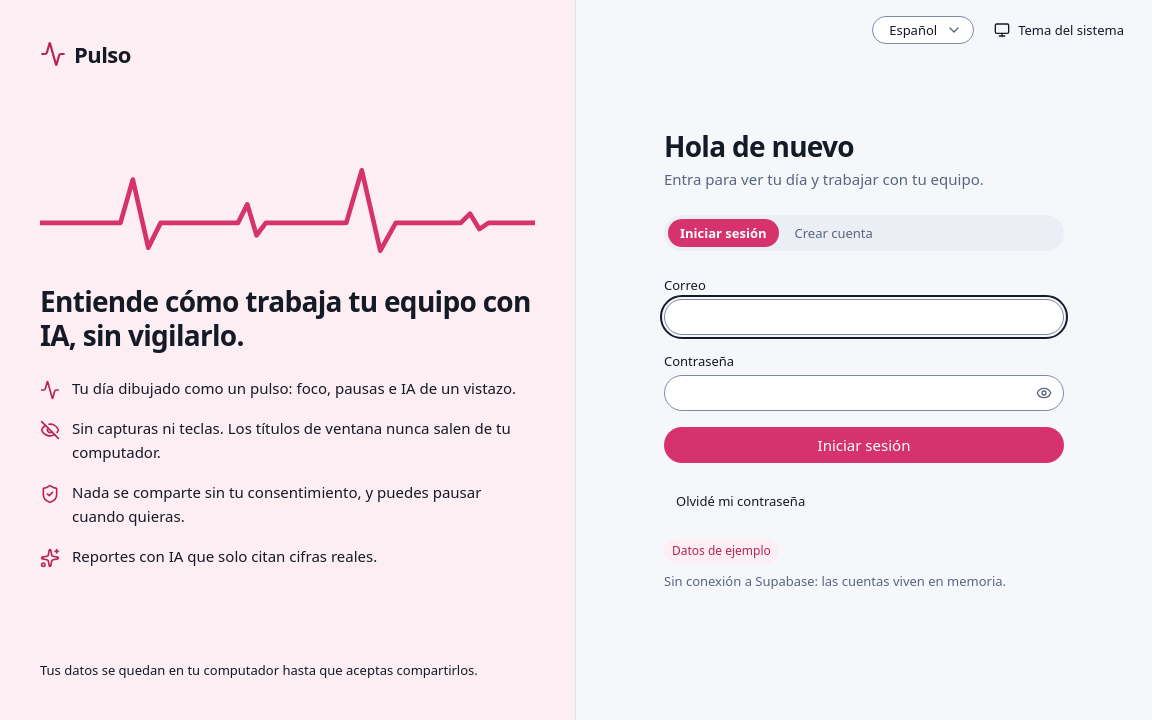
Test: Acceso (CU-01 a CU-03) › con el correo sin verificar (proyecto que exige confirmarlo), pasa a escribir el código
Type "beto@pulso.test" into the field labelled "Correo" at (864, 317), box [664,299,1064,335]
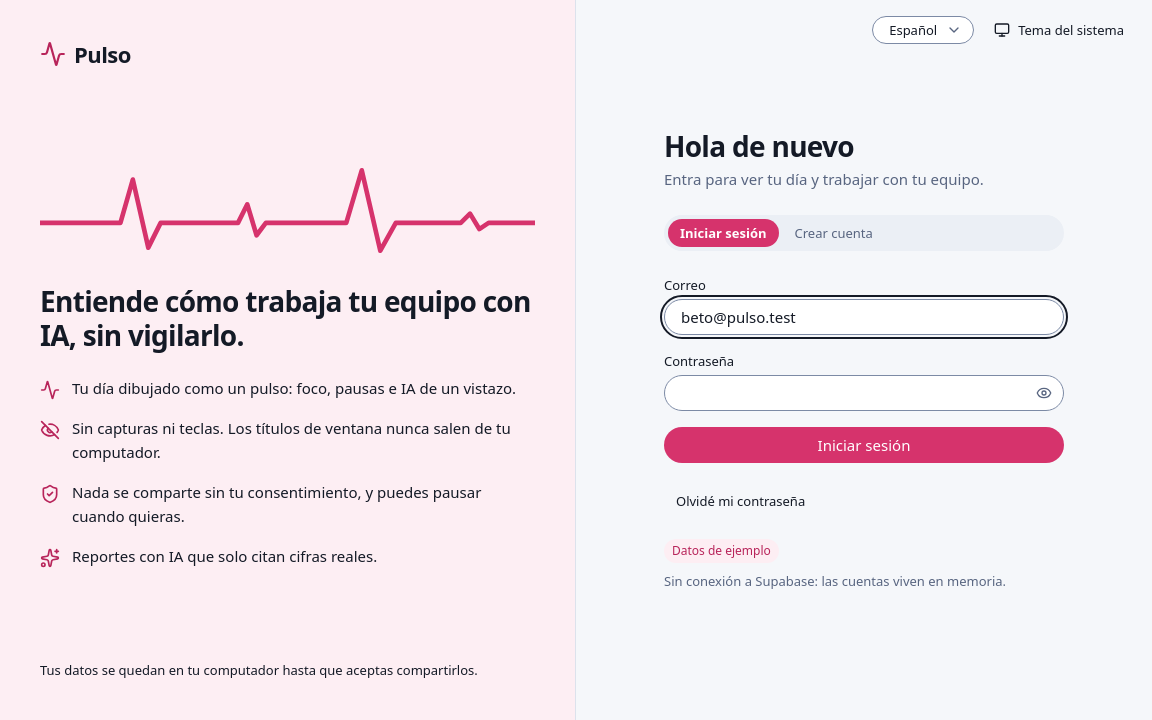
Type "secreto-123" into the password field labelled "Contraseña" at (864, 393), box [664,375,1064,411]
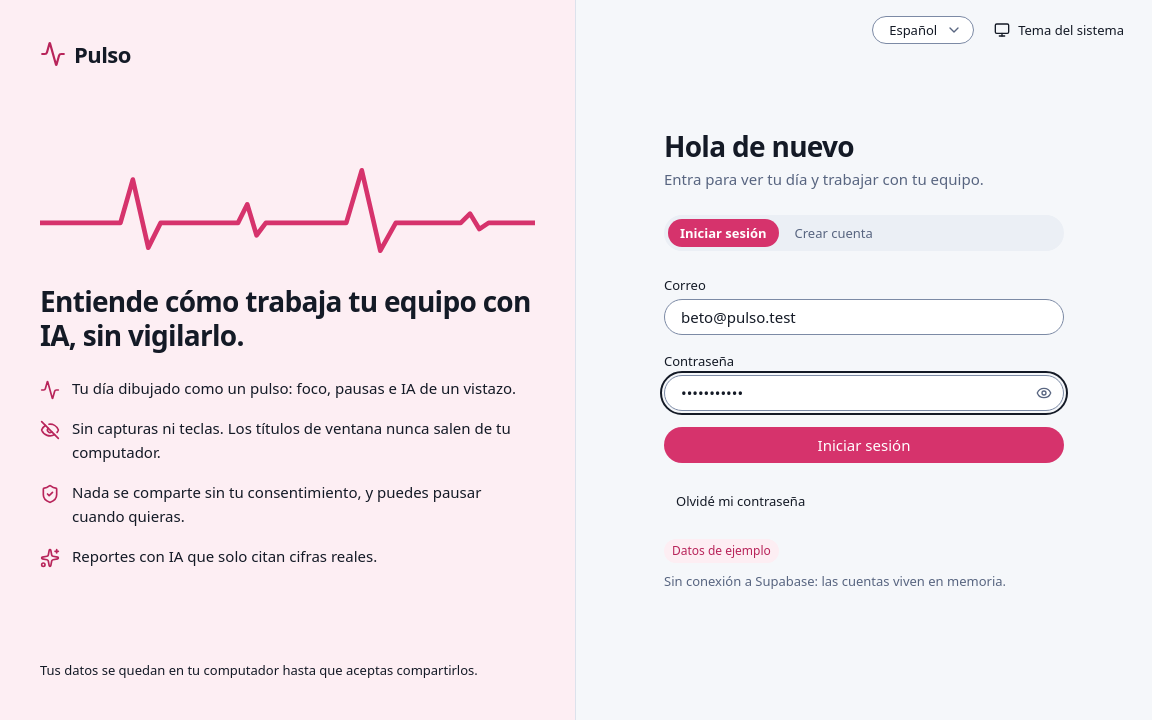
Click the button "Iniciar sesión" at (864, 445), box [664,427,1064,463]
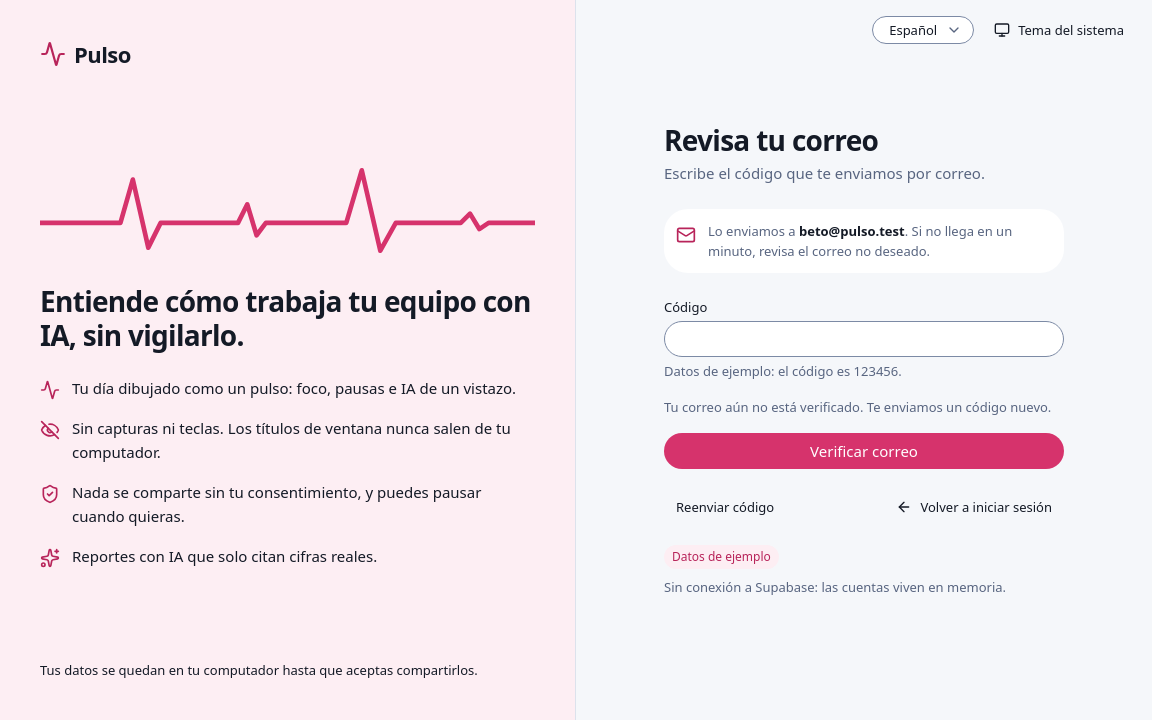
Expected: the heading "Revisa tu correo" is shown, [664,121,878,159]
Expected: the message shows "código nuevo", [664,398,1051,416]
